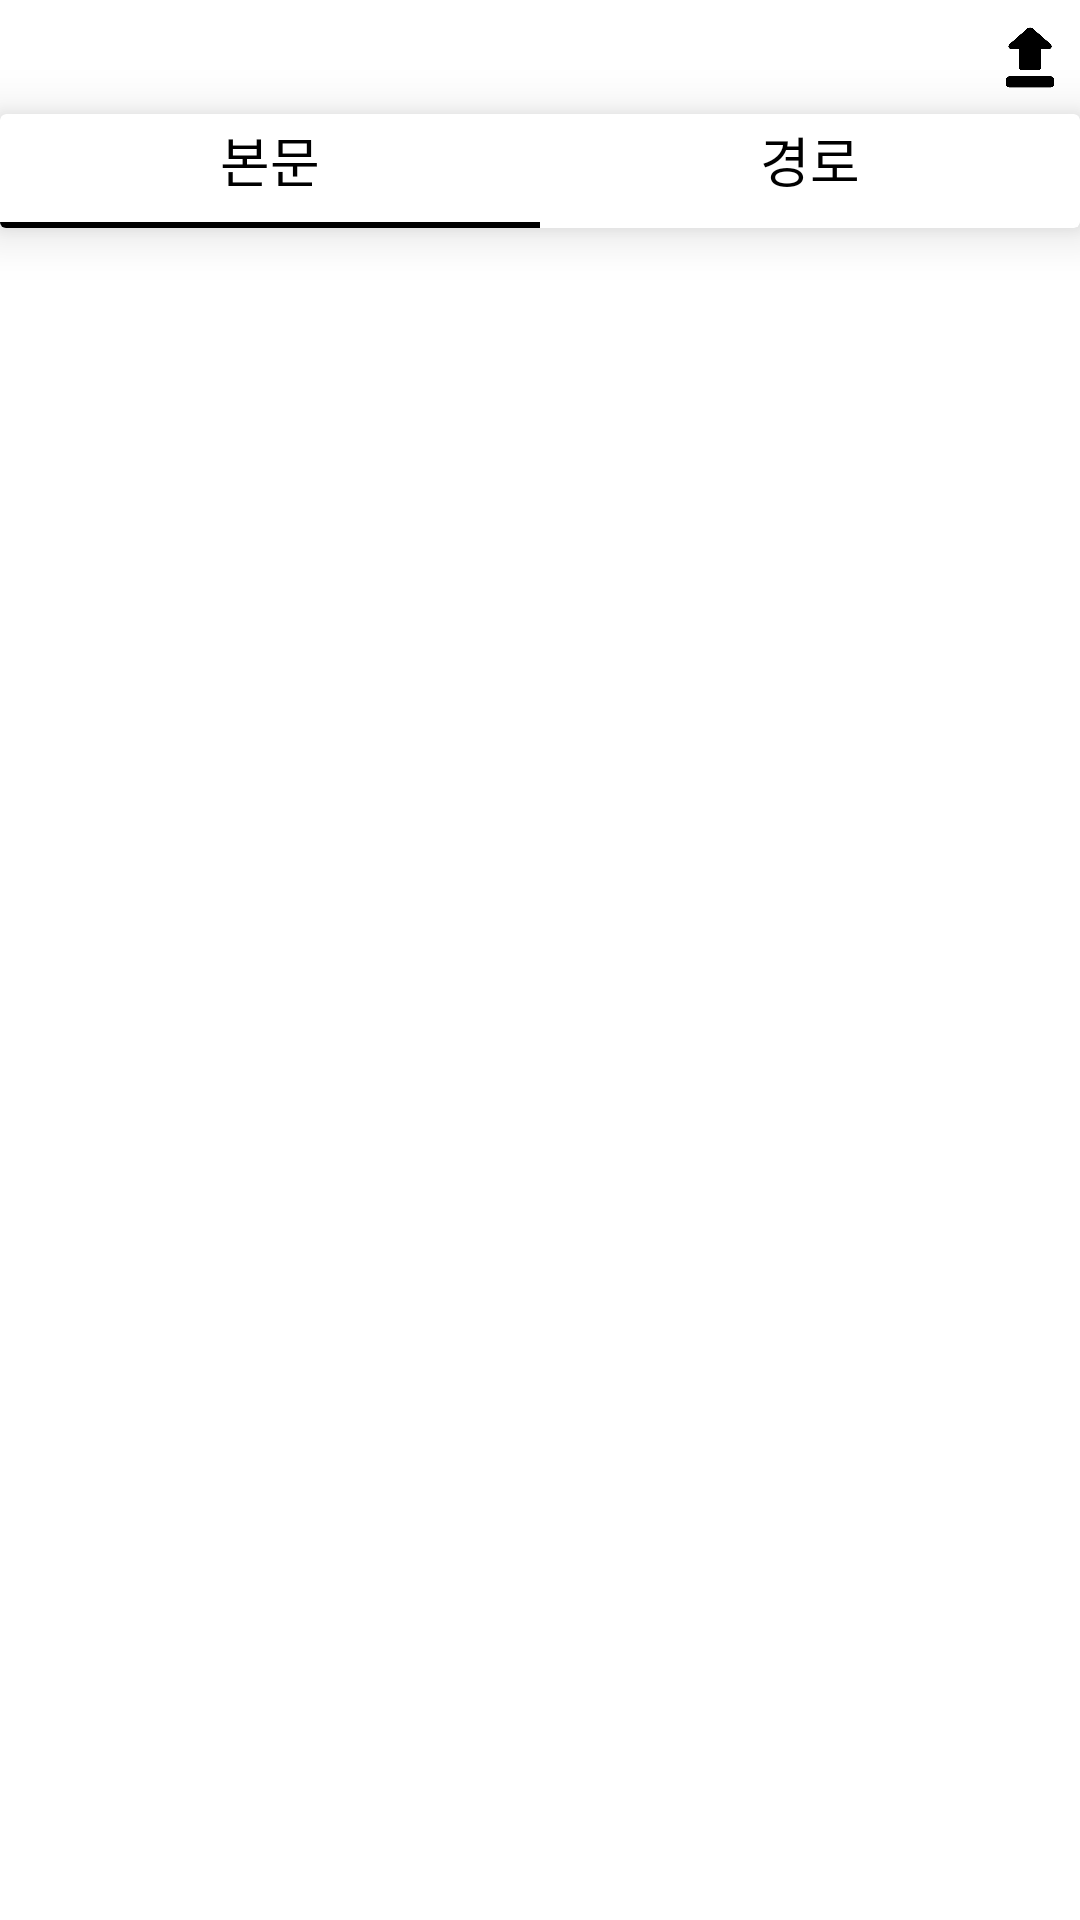

Named icons in this screenshot (1080 x 1920) and their bounding boxes, (x1, y1, x2, y2):
content upload: (1006, 27, 1054, 88)
